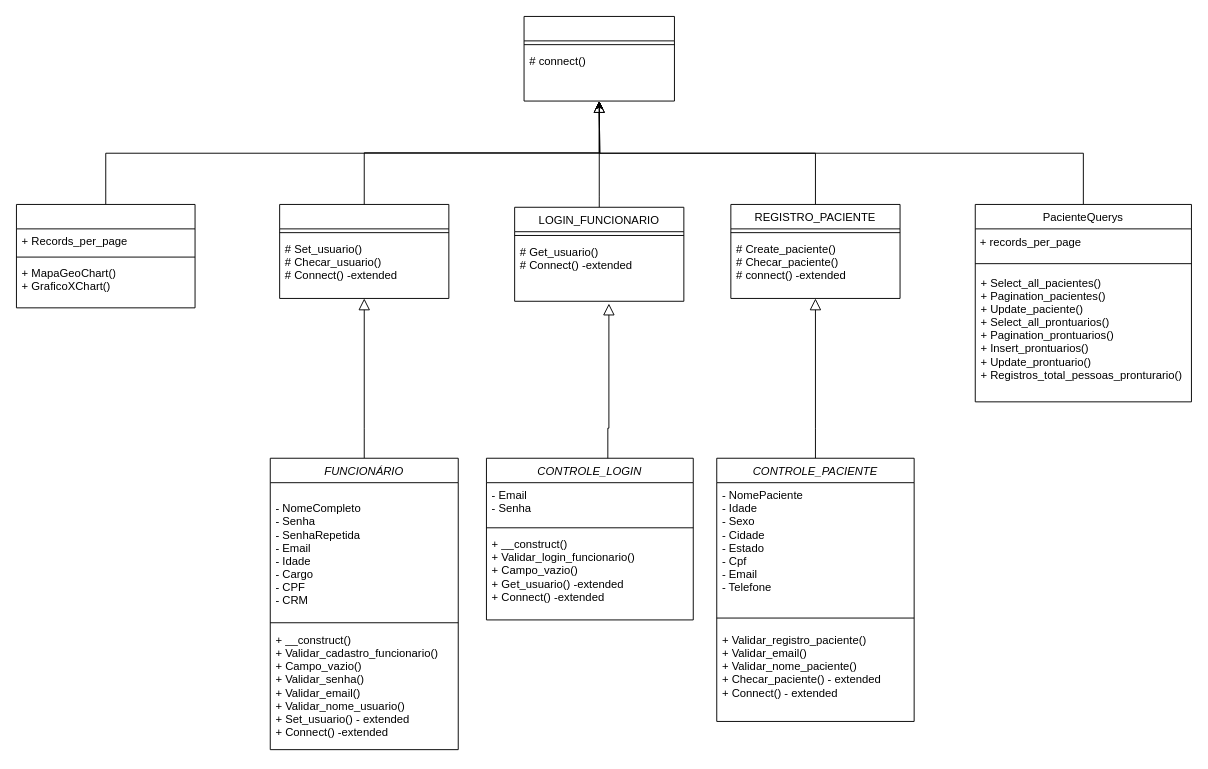
This 1208x769 diagram has some shape labels left out. The shapes that lost their labels are listed below. From the top down, each one's box as (x1, y1, x2, y2) in pixels, then its label:
(523, 16, 674, 101): medcontrol_db
(16, 204, 195, 308): DataGraphic
(279, 204, 449, 298): CADASTRO_FUNCIONARIO
